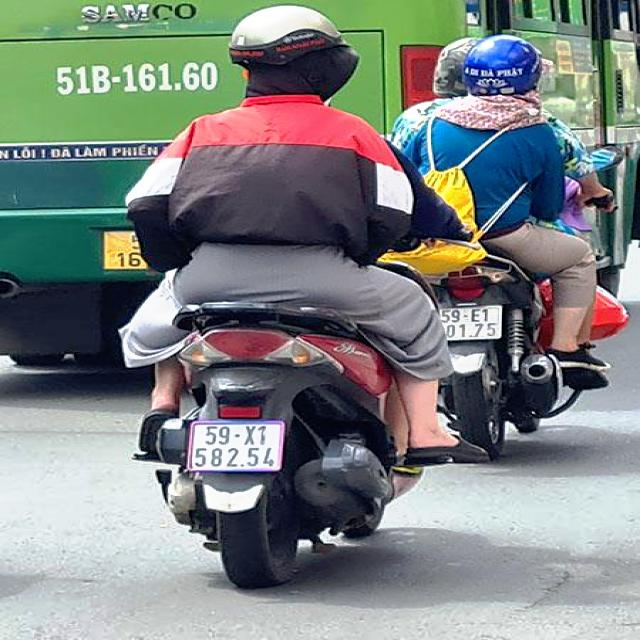license_plate: (192, 424, 283, 472)
